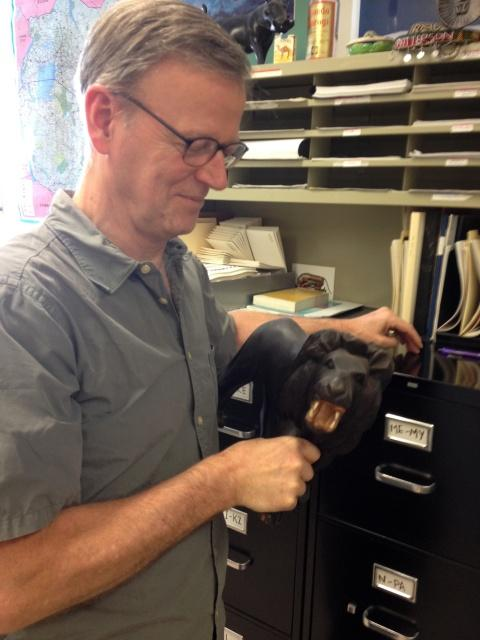Filing Cabinet: (299, 360, 479, 639)
